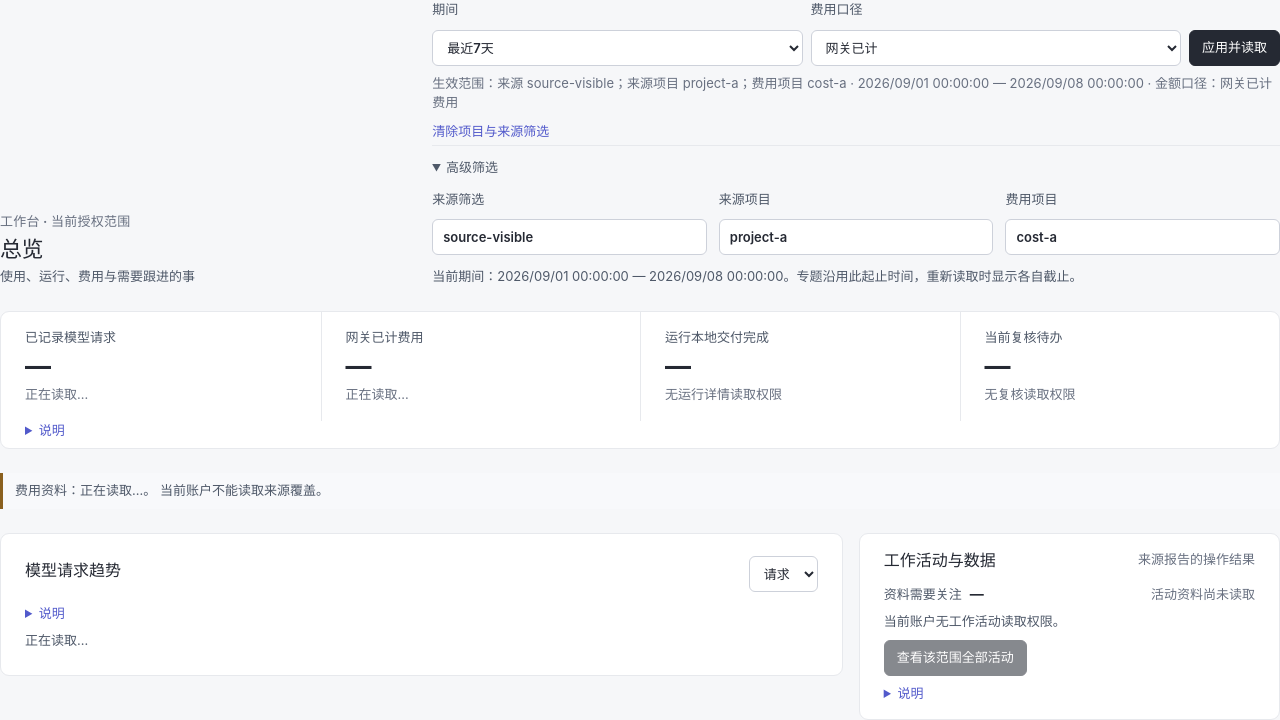
combined overview within existing scope › uses a signed amount axis for refunds rather than flattening negatives to zero
Select "费用" in the dropdown named "趋势指标" at (783, 574), box [749,556,818,592]
(page scrolled)
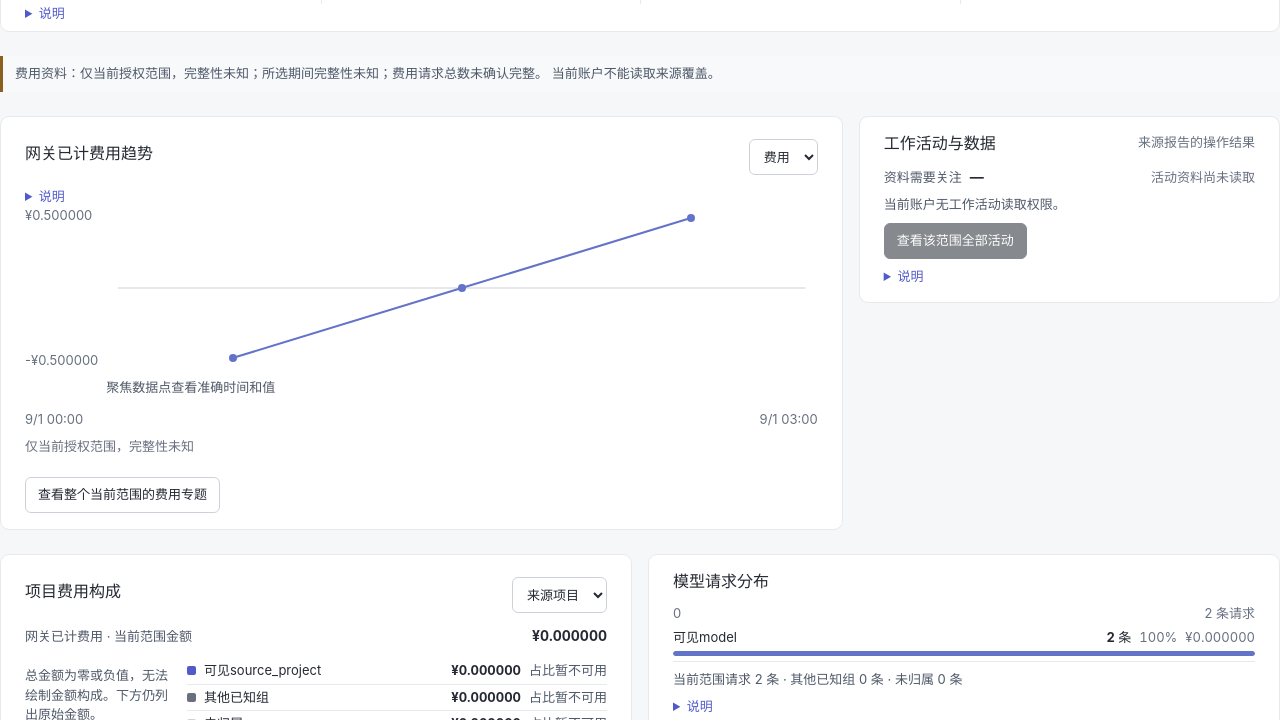
Result: the button named "-¥0.500000，时段资料完整" is shown at [221,346,245,370]
Result: the text "-¥0.500000" is shown at [25,351,98,370]
